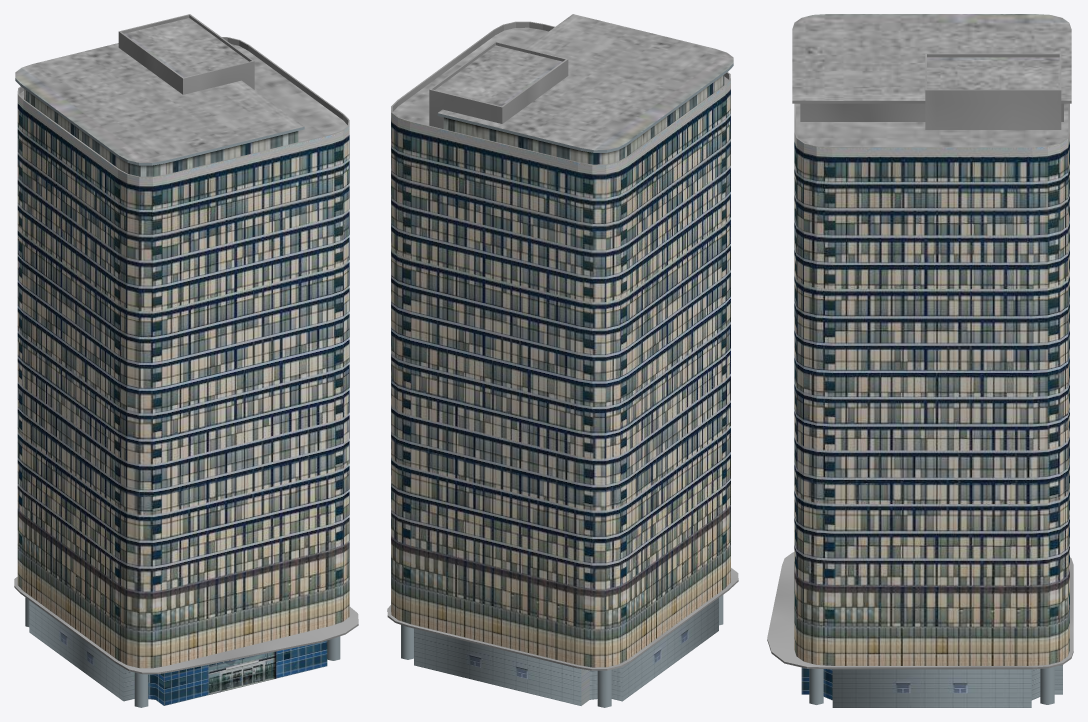
3 views of the same model, side by side, from view 1: azimuth 30°, elevation 25°; view 2: azimuth 150°, elevation 25°; view 3: azimuth 270°, elevation 25° (orthographic). The views are drawn at different scales.
Parts seen in each view (by area): view 1: CVPM1.001; view 2: CVPM1.001; view 3: CVPM1.001.
Part boxes in pixels (box(x1,y1,x2,y2)): CVPM1.001: box(14, 14, 358, 707); CVPM1.001: box(387, 14, 738, 707); CVPM1.001: box(767, 14, 1073, 707).
Size of the model in its own units: 34.67 by 80.66 by 37.54.
Materials: 1 (1 with a texture image).
